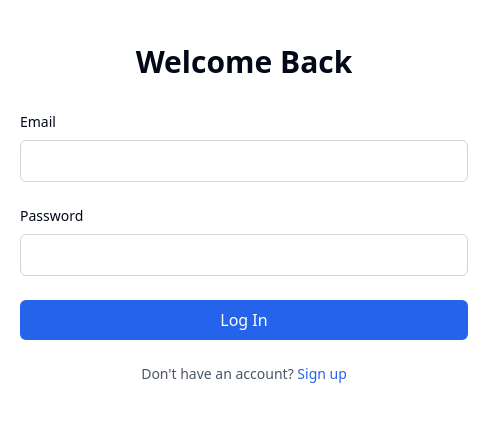
Test: LoginPage › shows error on failed login
The width and height of the screenshot is (489, 434).
Type "test@example.com" into the field labelled "Email" at (244, 161), box [20,140,468,182]
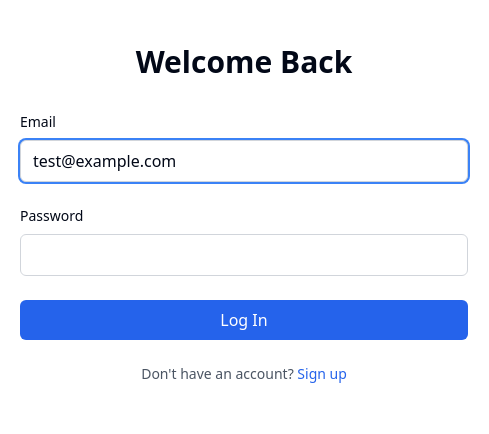
Type "wrongpassword" into the password field labelled "Password" at (244, 255), box [20,234,468,276]
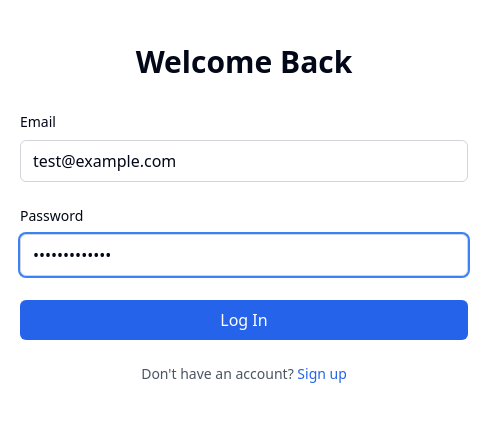
Click the button "Log In" at (244, 320), box [20,300,468,340]
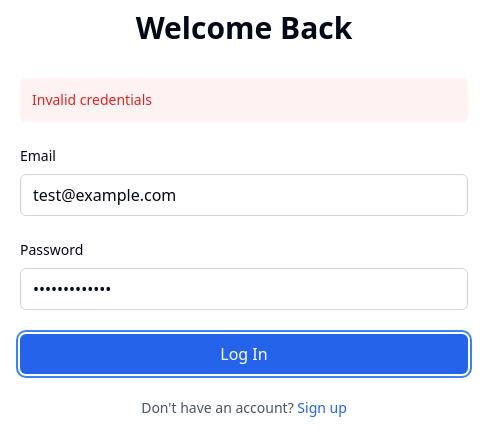
Check: the text "Invalid credentials" is shown, box [20,78,468,122]
